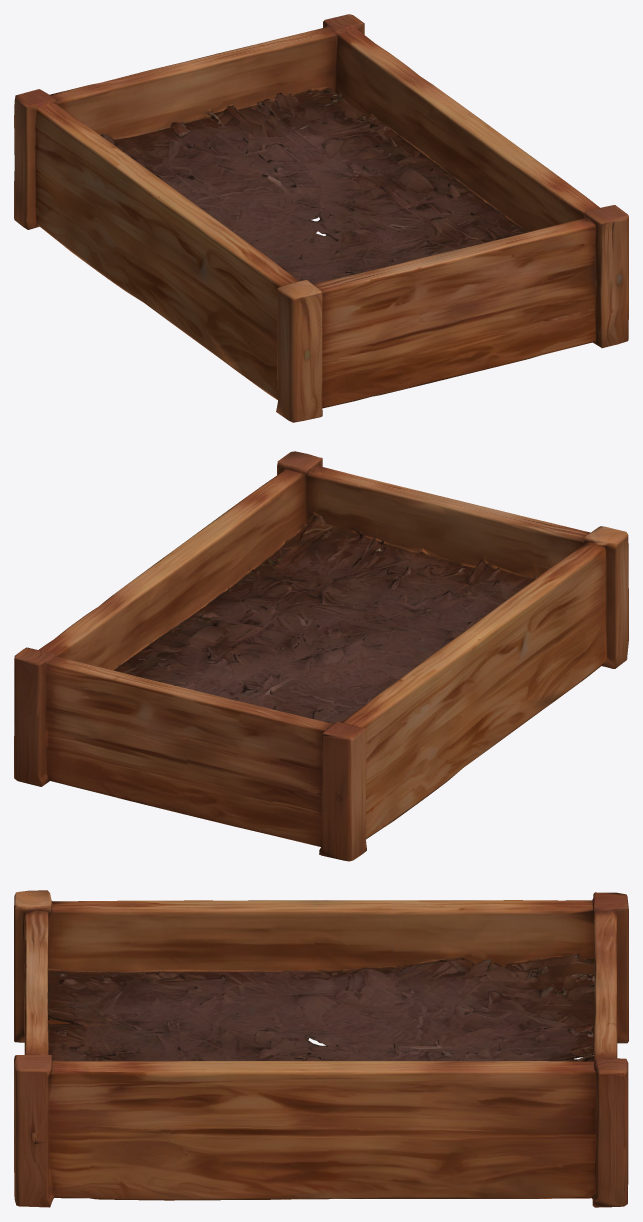
File: bed.glb
3 views of the same model, one above another, from view 1: azimuth 30°, elevation 25°; view 2: azimuth 150°, elevation 25°; view 3: azimuth 270°, elevation 25° (orthographic). The views are drawn at different scales.
Bounding box in the file's own units: 0.6993 × 0.2455 × 0.998.
Materials: 1 (1 with a texture image).
